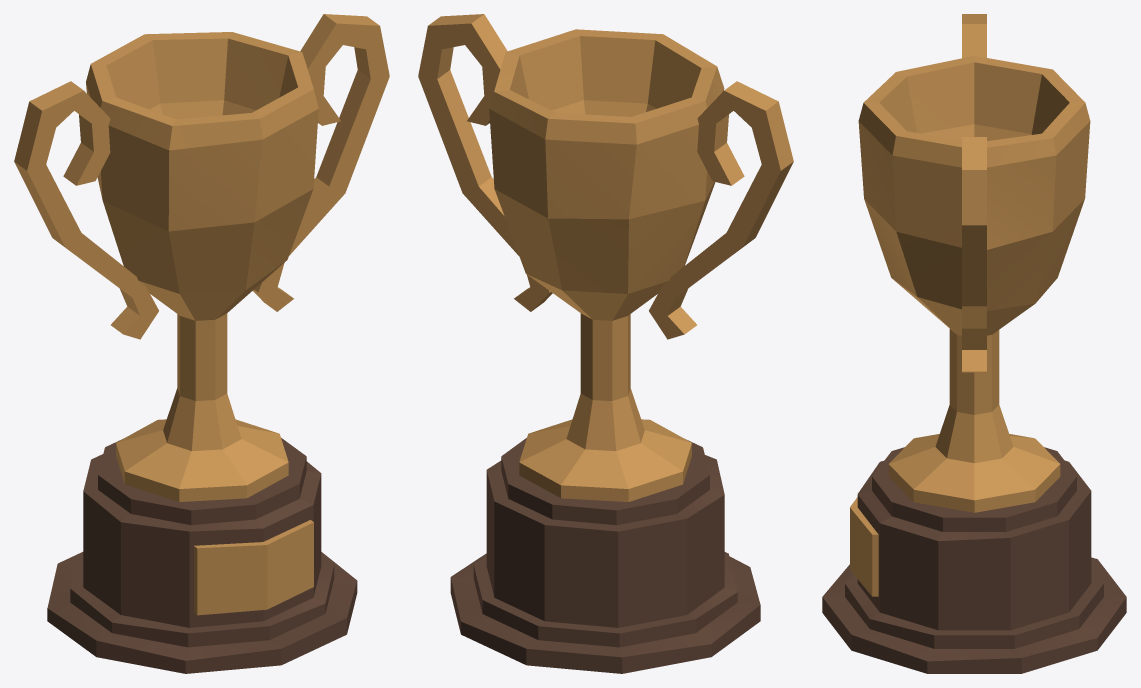
Rendered from SM_Icon_Cup_01.fbx.
3 views of the same model, side by side, from view 1: azimuth 30°, elevation 25°; view 2: azimuth 150°, elevation 25°; view 3: azimuth 270°, elevation 25° (orthographic). The views are drawn at different scales.
Parts seen in each view (by area): view 1: SM_Icon_Cup_01; view 2: SM_Icon_Cup_01; view 3: SM_Icon_Cup_01.
Part boxes in pixels (bbox=[...]): SM_Icon_Cup_01: bbox=[14, 14, 389, 673]; SM_Icon_Cup_01: bbox=[418, 14, 793, 673]; SM_Icon_Cup_01: bbox=[822, 14, 1126, 673].
Bounding box in the file's own units: 45.54 × 66.88 × 34.43.
